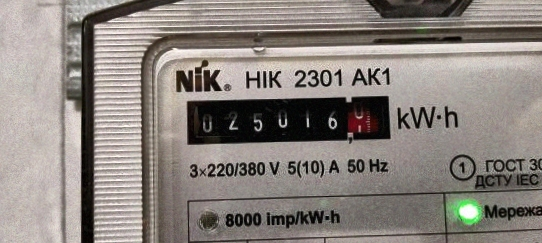0: (276, 106, 290, 129), (200, 112, 213, 134), (352, 100, 364, 120)
1: (301, 105, 312, 130), (354, 123, 362, 134)
2: (226, 108, 239, 131)
5: (251, 111, 262, 132)
6: (325, 107, 338, 132)
screen: (176, 86, 400, 151)
